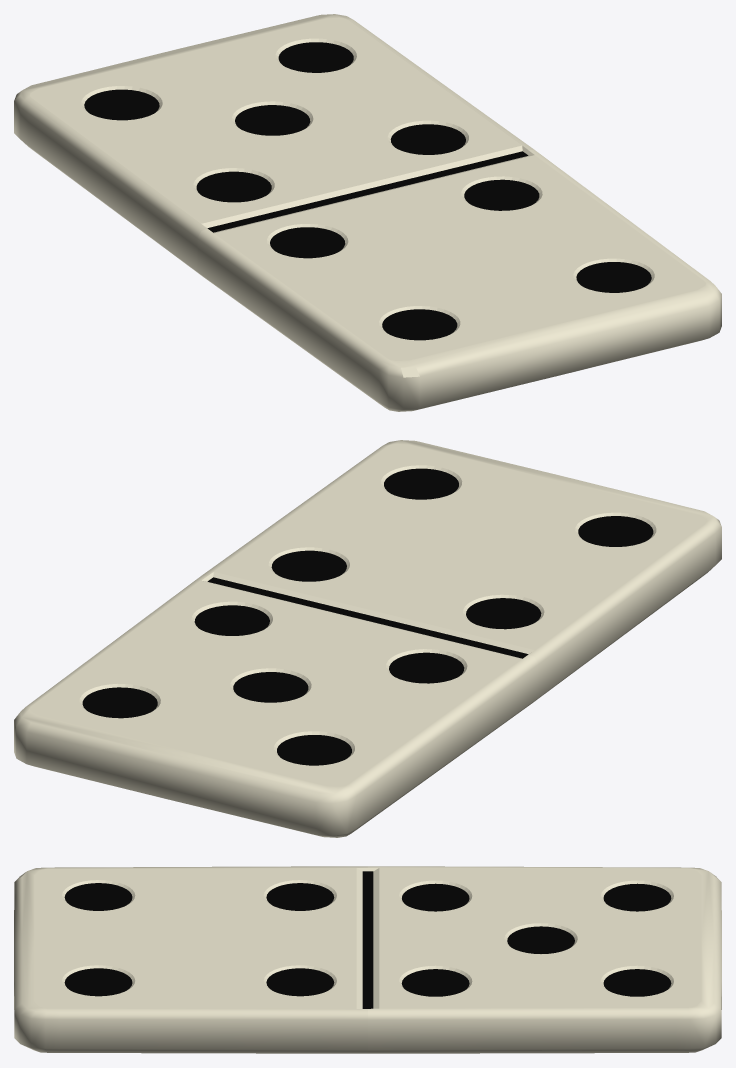
File: Domino_4_5.glb
3 renders of one model, top to bottom at view 1: azimuth 30°, elevation 25°; view 2: azimuth 150°, elevation 25°; view 3: azimuth 270°, elevation 25°, orthographic. The views are drawn at different scales.
Parts seen in each view (by area): view 1: Domino_4_5_A.001, Domino_4_5_B.001; view 2: Domino_4_5_B.001, Domino_4_5_A.001; view 3: Domino_4_5_A.001, Domino_4_5_B.001.
Boxes of the visible parts, x1=… form: Domino_4_5_A.001: x1=197, y1=149, x2=721, y2=411; Domino_4_5_B.001: x1=14, y1=14, x2=533, y2=276; Domino_4_5_B.001: x1=14, y1=575, x2=538, y2=837; Domino_4_5_A.001: x1=202, y1=440, x2=721, y2=702; Domino_4_5_A.001: x1=14, y1=866, x2=367, y2=1053; Domino_4_5_B.001: x1=368, y1=866, x2=721, y2=1053.
Size of the model in its own units: 0.7725 by 0.1053 by 1.54.
